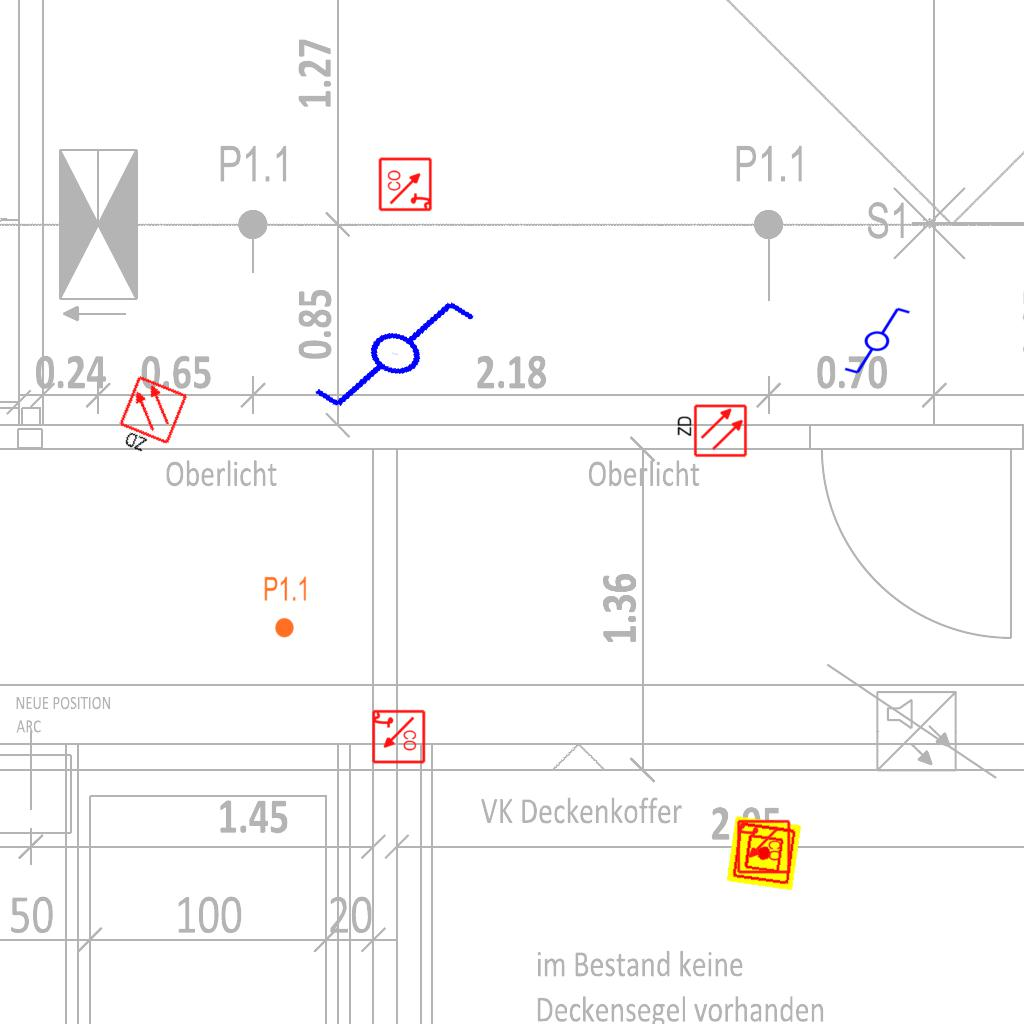Downlight_LED_Einbauleuchten_Flur: (263, 575, 309, 639)
NAM-Nichtautomatischer_Melder: (726, 815, 802, 891)
ROA_Rauchmelder_optisch_mit_Signalgeber_(Sockelsirene): (378, 156, 434, 212), (370, 709, 426, 765), (735, 819, 791, 875)
Wechselschalter: (307, 267, 498, 449), (834, 304, 912, 376)
ZD_Melder_in_Zwischendecke_mit_Revisionsoeffnung_mind_40_x_40_cm: (110, 374, 191, 464), (674, 403, 748, 460)
